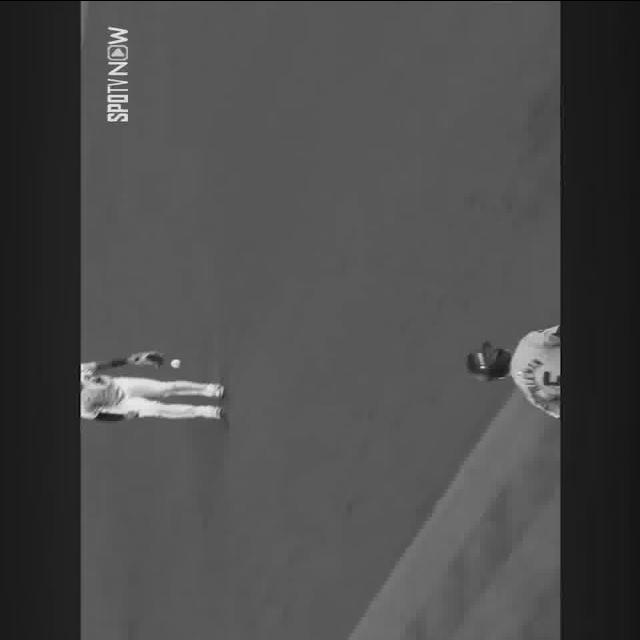baseball: (172, 358, 182, 368)
baseball_glove: (128, 350, 160, 366)
shoe: (210, 382, 226, 396), (207, 408, 225, 418)
